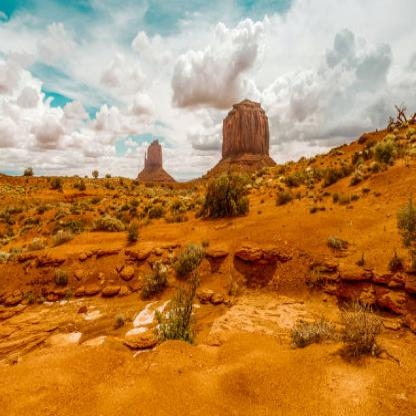Sedimentary_Sandstone: (220, 96, 273, 160), (142, 137, 168, 175)
